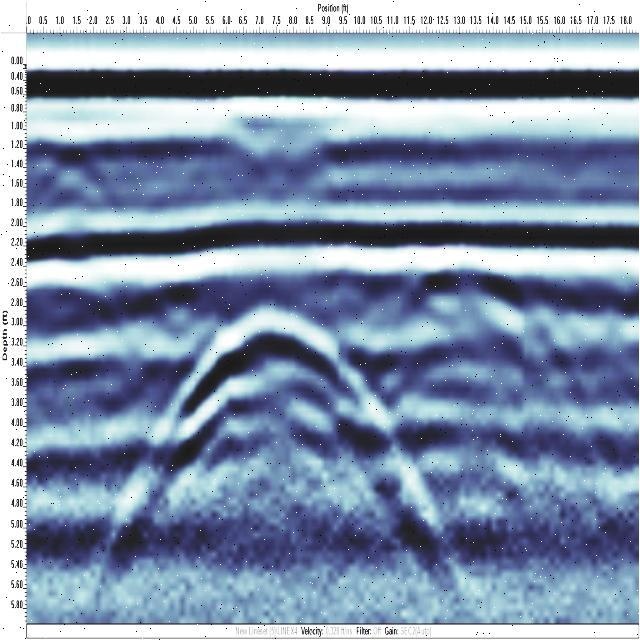hyperbola: (82, 287, 460, 589), (334, 250, 612, 490)
